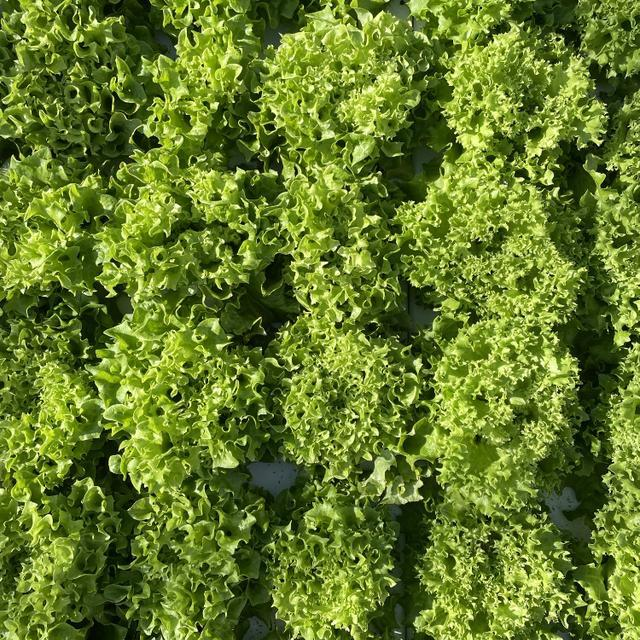Lettuce: (90, 298, 273, 495), (420, 312, 585, 513), (405, 155, 592, 327), (99, 144, 274, 318), (258, 304, 420, 488), (261, 0, 431, 166), (408, 493, 580, 640), (118, 471, 261, 640), (272, 160, 406, 338), (257, 485, 410, 640), (0, 0, 146, 160), (434, 30, 608, 153), (0, 465, 116, 640), (136, 0, 271, 148), (0, 310, 108, 486), (0, 143, 105, 317)
